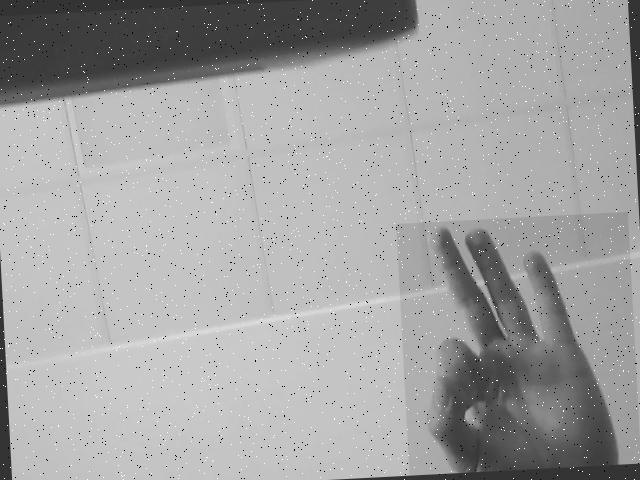OK: (396, 211, 640, 475)
